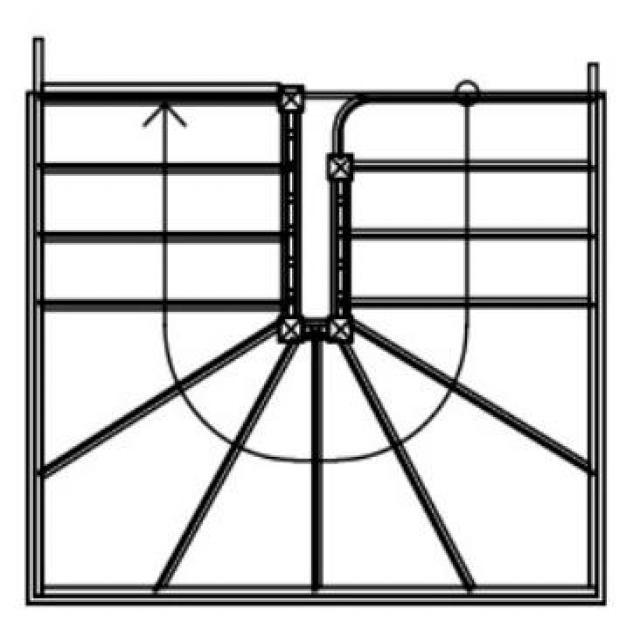stair: (23, 34, 607, 611)
